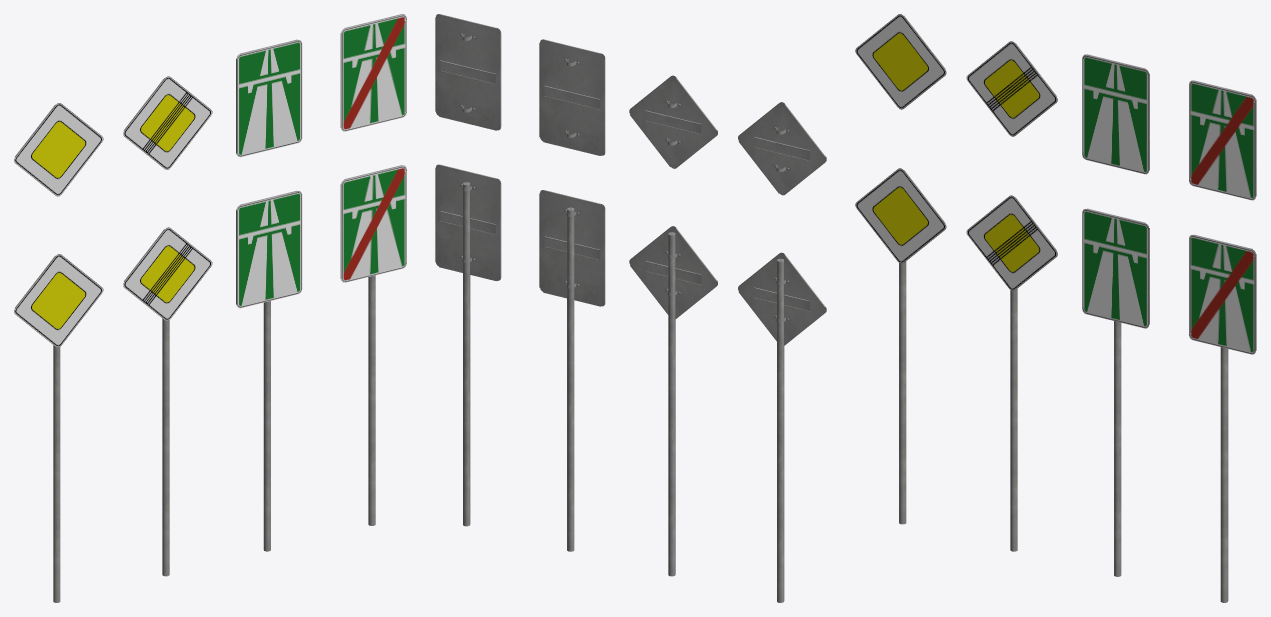
File: ru_signs_extra.glb
3 renders of one model, left to right at view 1: azimuth 30°, elevation 25°; view 2: azimuth 150°, elevation 25°; view 3: azimuth 330°, elevation 25°, orthographic. The views are drawn at different scales.
Parts seen in each view (by area): view 1: Object_5, Object_2, Object_4, Object_3, Object_6; view 2: Object_4; view 3: Object_5, Object_2, Object_4, Object_3, Object_6.
Part boxes in pixels (x1=…): Object_5: x1=341, y1=15, x2=406, y2=282; Object_2: x1=237, y1=40, x2=302, y2=308; Object_4: x1=14, y1=14, x2=405, y2=602; Object_3: x1=14, y1=103, x2=103, y2=347; Object_6: x1=123, y1=76, x2=212, y2=320; Object_4: x1=435, y1=14, x2=826, y2=602; Object_5: x1=1189, y1=81, x2=1255, y2=354; Object_2: x1=1082, y1=55, x2=1148, y2=328; Object_4: x1=899, y1=14, x2=1256, y2=602; Object_3: x1=855, y1=14, x2=946, y2=263; Object_6: x1=966, y1=41, x2=1057, y2=290.
Bounding box in the file's own units: 11.99 × 14.73 × 0.2383.
Materials: 5 (5 with a texture image).
